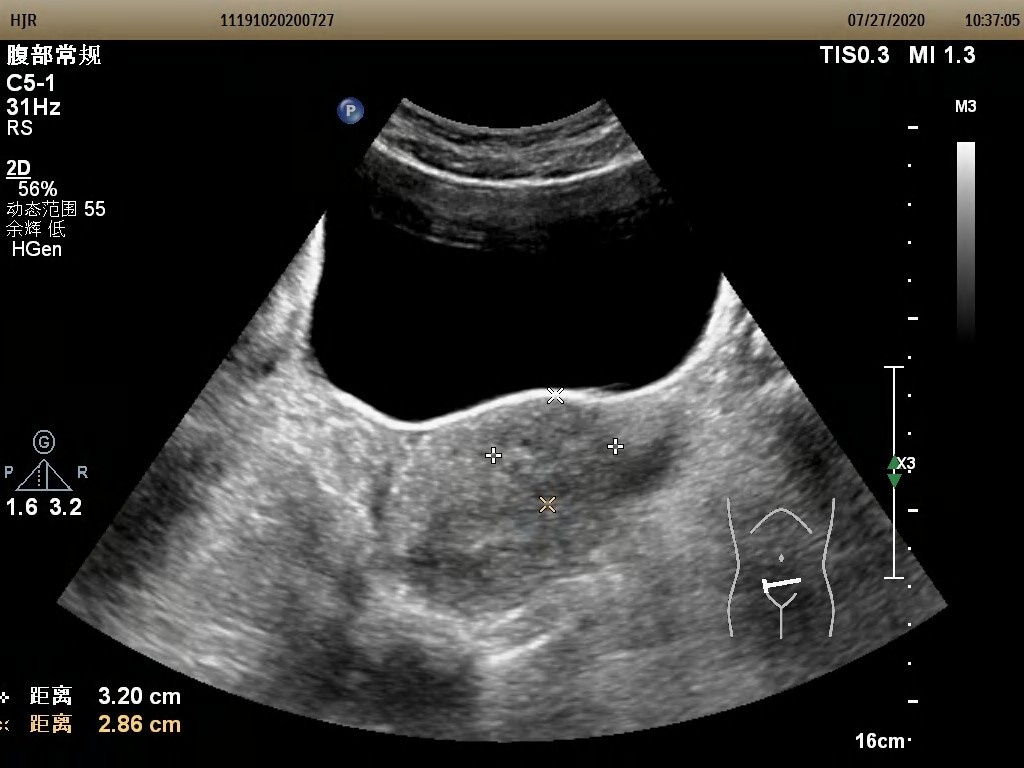肌瘤: (493, 395, 616, 507)
